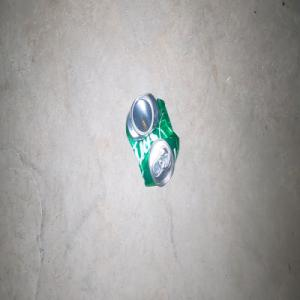SodaCan: (125, 92, 179, 186)
